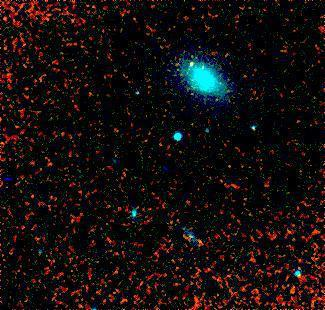star: (174, 48, 204, 78)
